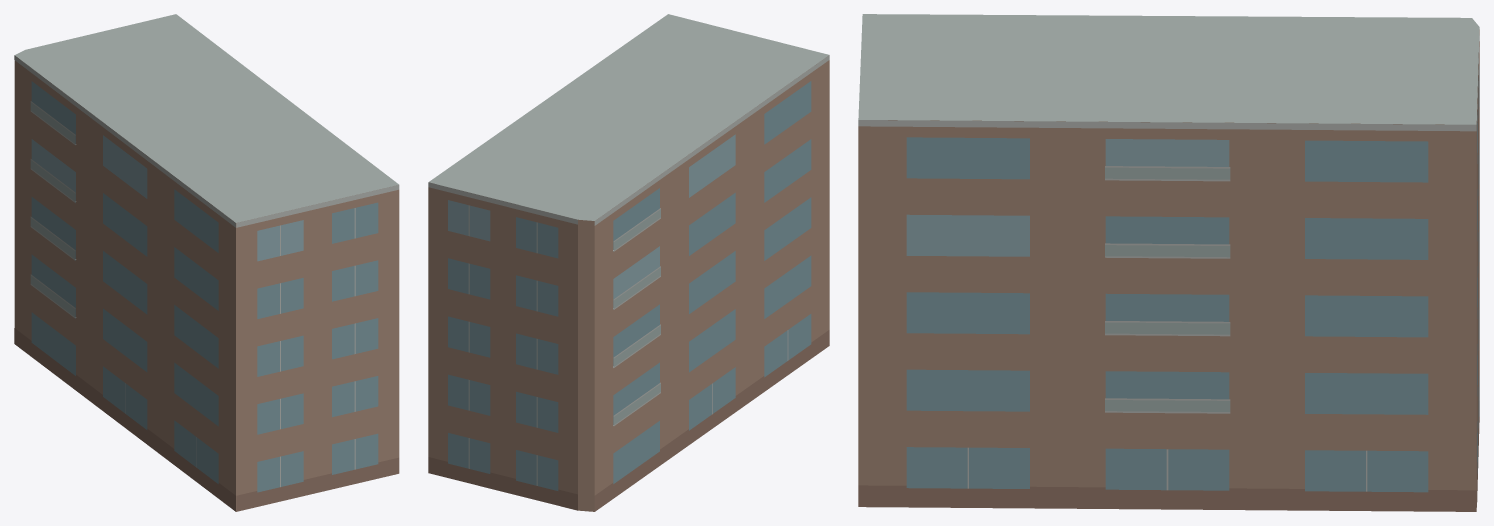
File: survey-upis-33045866.glb
3 views of the same model, side by side, from view 1: azimuth 30°, elevation 25°; view 2: azimuth 150°, elevation 25°; view 3: azimuth 270°, elevation 25° (orthographic). The views are drawn at different scales.
Parts seen in each view (by area): view 1: survey-upis-33045866.tmp; view 2: survey-upis-33045866.tmp; view 3: survey-upis-33045866.tmp.
Part boxes in pixels (left/top/right/bottom): survey-upis-33045866.tmp: left=14, top=14, right=399, bottom=511; survey-upis-33045866.tmp: left=428, top=14, right=829, bottom=511; survey-upis-33045866.tmp: left=858, top=14, right=1479, bottom=511.
Size of the model in its own units: 8.82 by 14.36 by 20.89.
